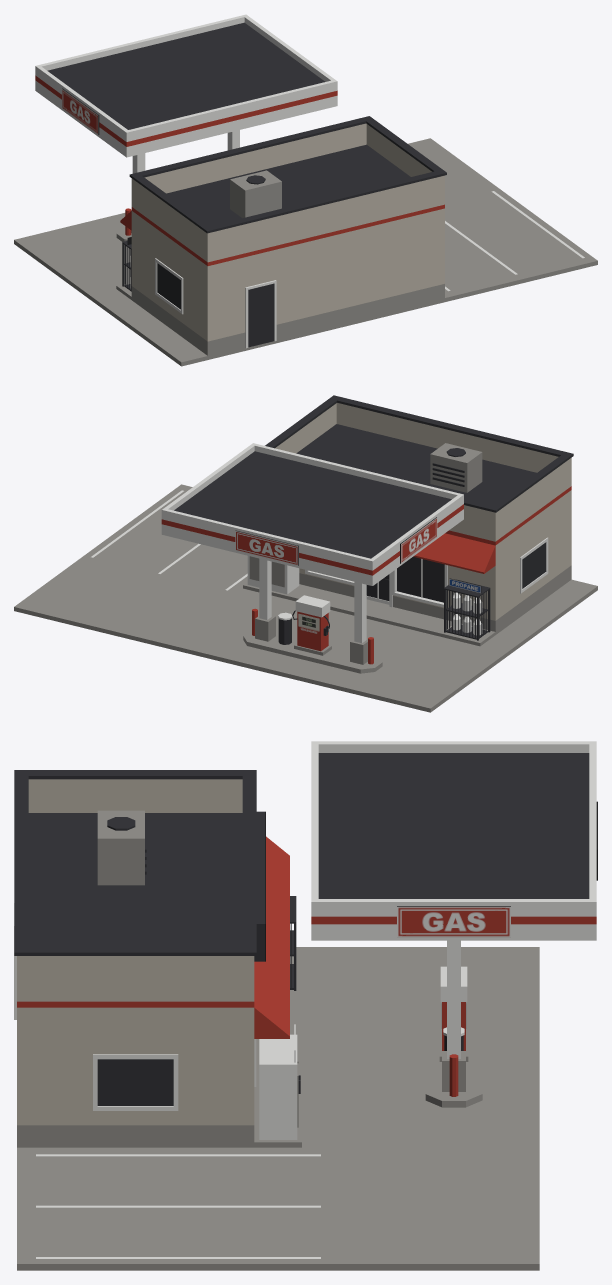
File: gas-station.glb
The picture shows the model from 3 angles, top to bottom: view 1: azimuth 30°, elevation 25°; view 2: azimuth 150°, elevation 25°; view 3: azimuth 270°, elevation 25°; orthographic projection. The views are drawn at different scales.
Visible parts, largest first — view 1: GasStation; view 2: GasStation; view 3: GasStation.
Part boxes in pixels (left/top/right/bottom): GasStation: left=14, top=14, right=597, bottom=366; GasStation: left=14, top=395, right=597, bottom=712; GasStation: left=14, top=741, right=597, bottom=1270.
Bounding box in the file's own units: 15.8 × 5.62 × 12.29.
Materials: 7 (1 with a texture image).
